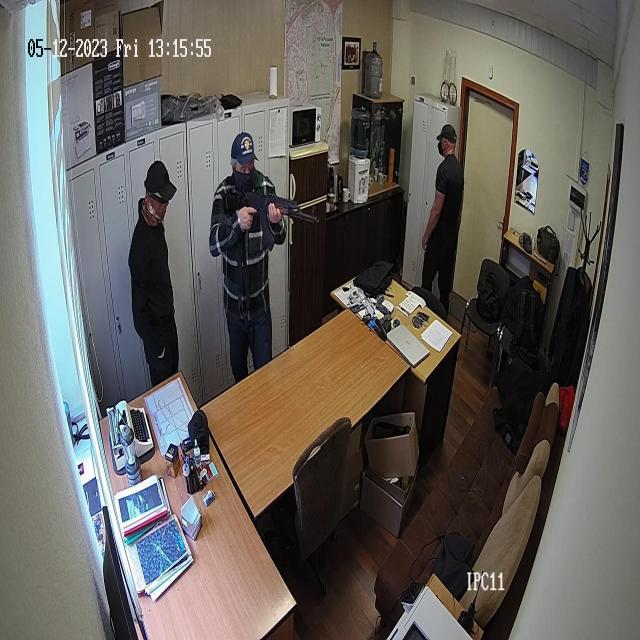pistol: (220, 186, 319, 251)
